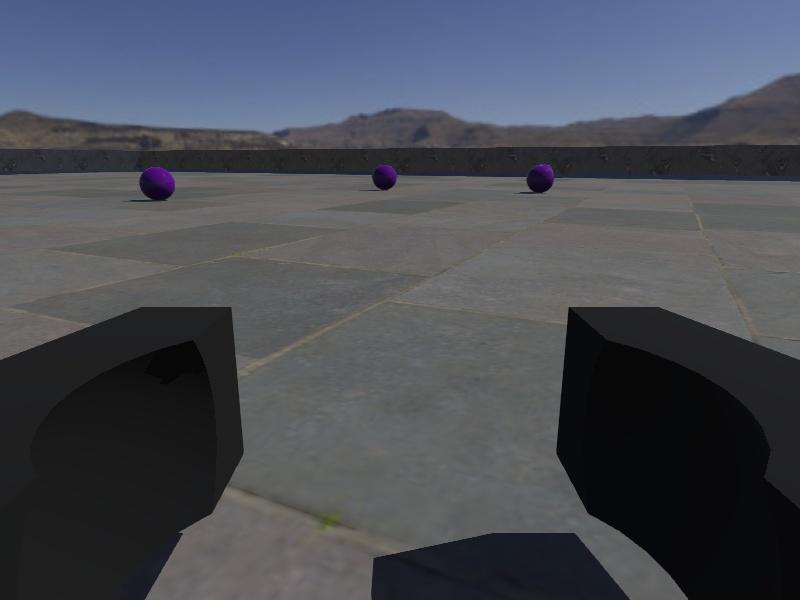violet ball: (139, 167, 174, 201), (528, 165, 555, 192), (372, 165, 398, 190)
